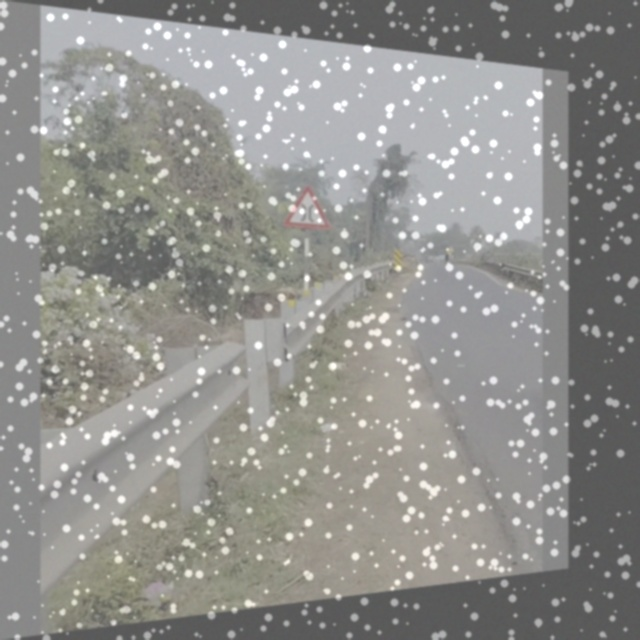Narrow_Bridge: (286, 184, 330, 230)
